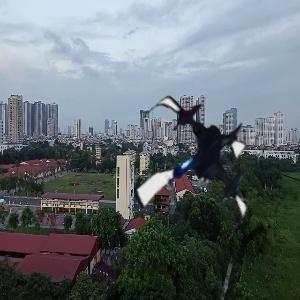drone: (117, 93, 271, 247)
